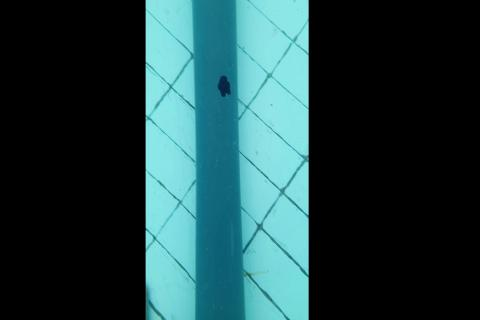kebocoran: (217, 75, 231, 97)
